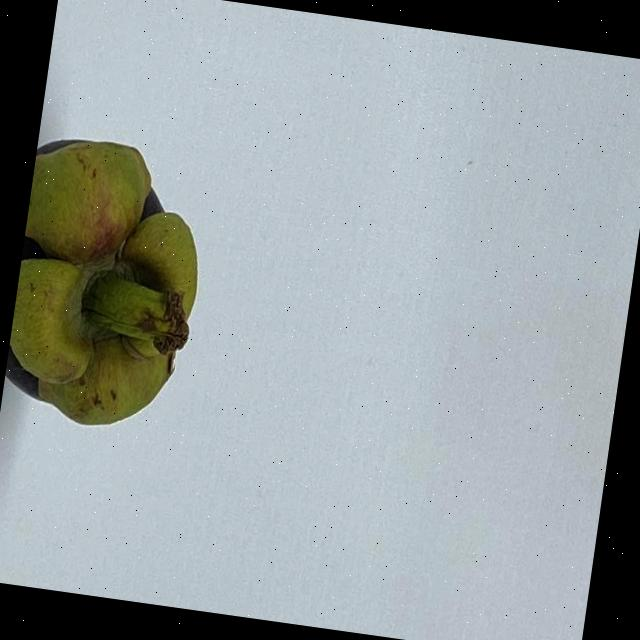mangosteen: (0, 109, 263, 446)
